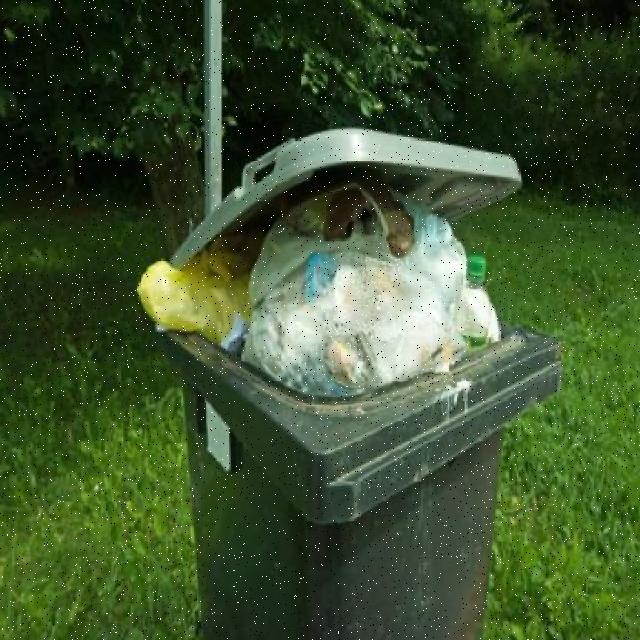garbage container: (146, 300, 554, 638)
